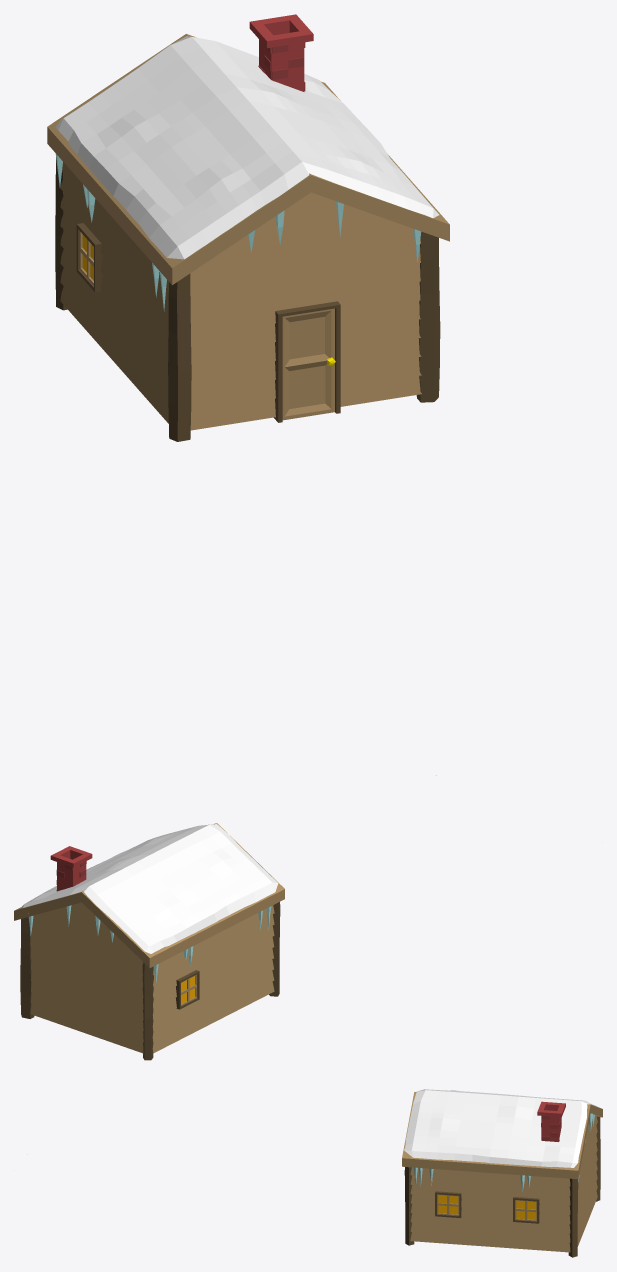
File: house.fbx
3 renders of one model, top to bottom at view 1: azimuth 30°, elevation 25°; view 2: azimuth 150°, elevation 25°; view 3: azimuth 270°, elevation 25°, orthographic. The views are drawn at different scales.
Parts seen in each view (by area): view 1: House_1; view 2: House_1; view 3: House_1.
Part boxes in pixels (left/top/right/bottom): House_1: left=47, top=14, right=449, bottom=441; House_1: left=14, top=823, right=284, bottom=1060; House_1: left=402, top=1089, right=602, bottom=1257.
Bounding box in the file's own units: 8.89 × 5.28 × 20.59.
